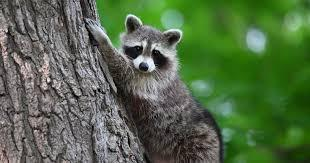raccoon: (76, 2, 242, 163)
